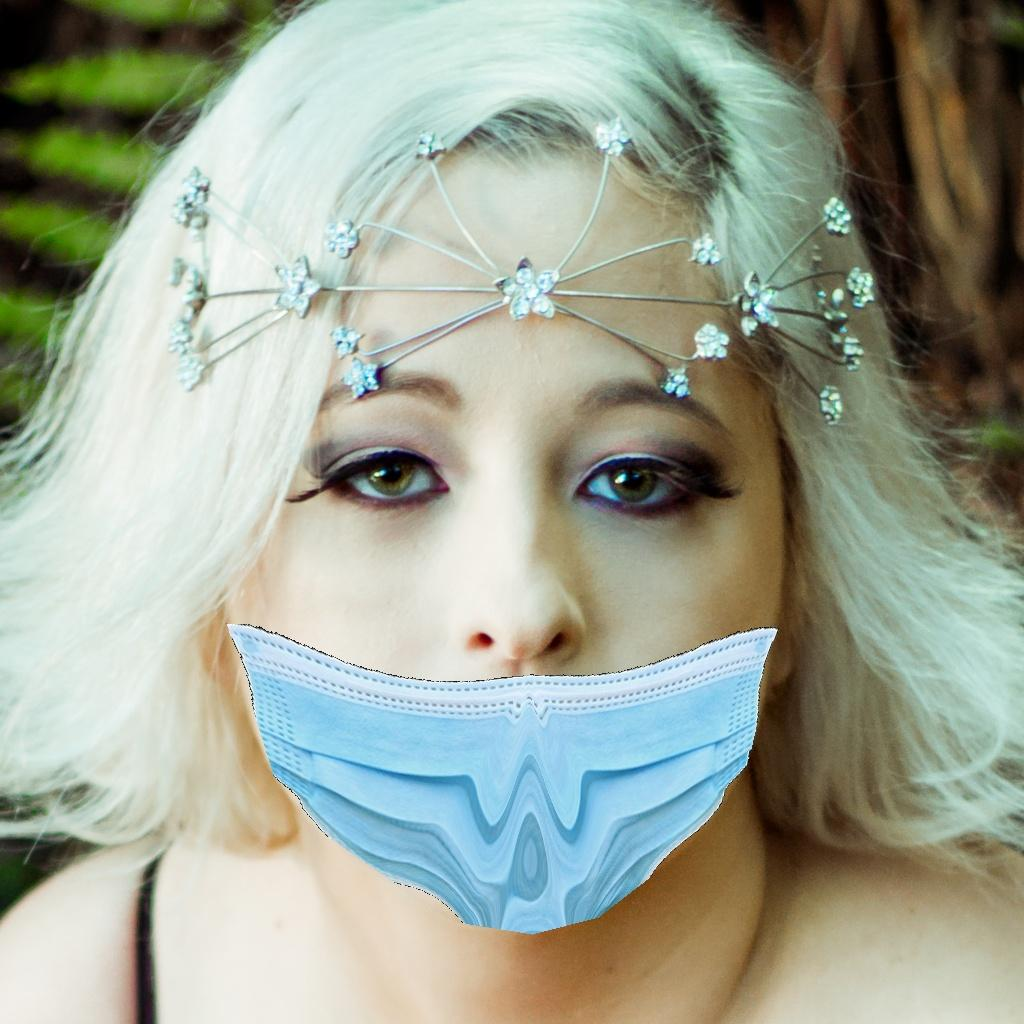Máscara Incorreta: (226, 341, 768, 909)
